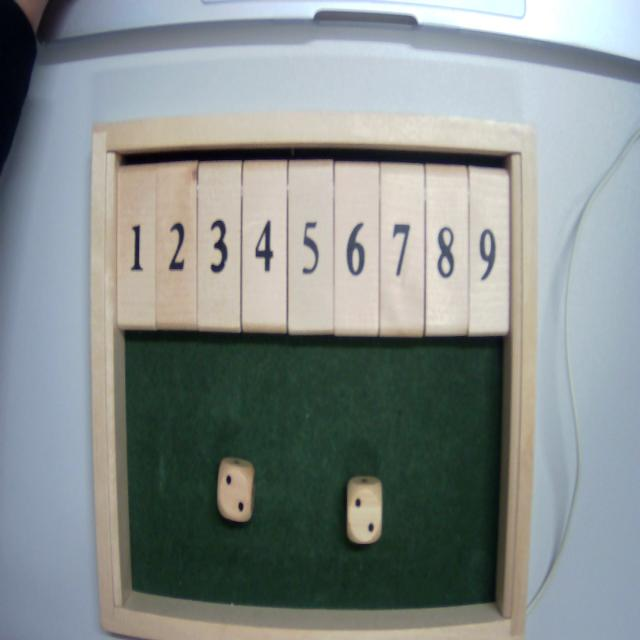2: (343, 472, 388, 547), (215, 454, 257, 526)
C1: (115, 120, 156, 333)
C2: (157, 116, 197, 332)
C3: (198, 116, 241, 334)
C4: (242, 112, 287, 332)
C5: (288, 112, 336, 335)
C6: (336, 115, 378, 338)
C7: (380, 114, 426, 337)
C8: (426, 115, 468, 340)
C9: (470, 118, 510, 336)
